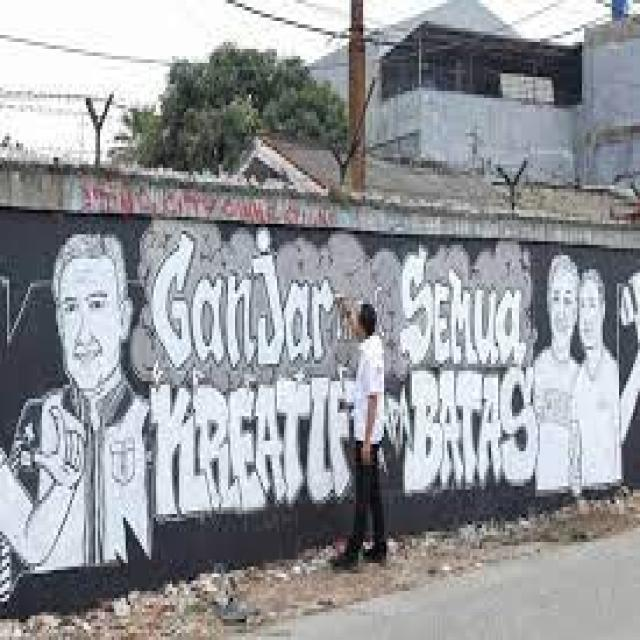-: (150, 227, 540, 516), (0, 234, 151, 602), (539, 255, 640, 492)
